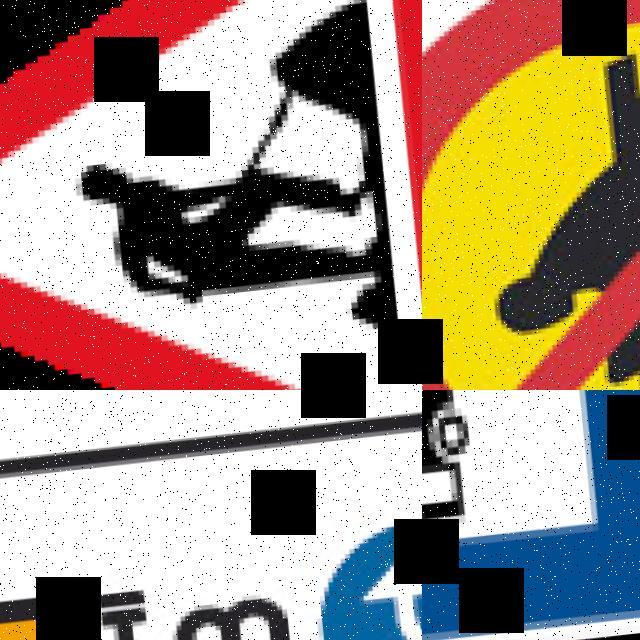95: (0, 397, 422, 640)
Bus stop: (422, 390, 640, 640)
Roadworks: (0, 0, 422, 390)
no motorcycles: (422, 0, 640, 390)
